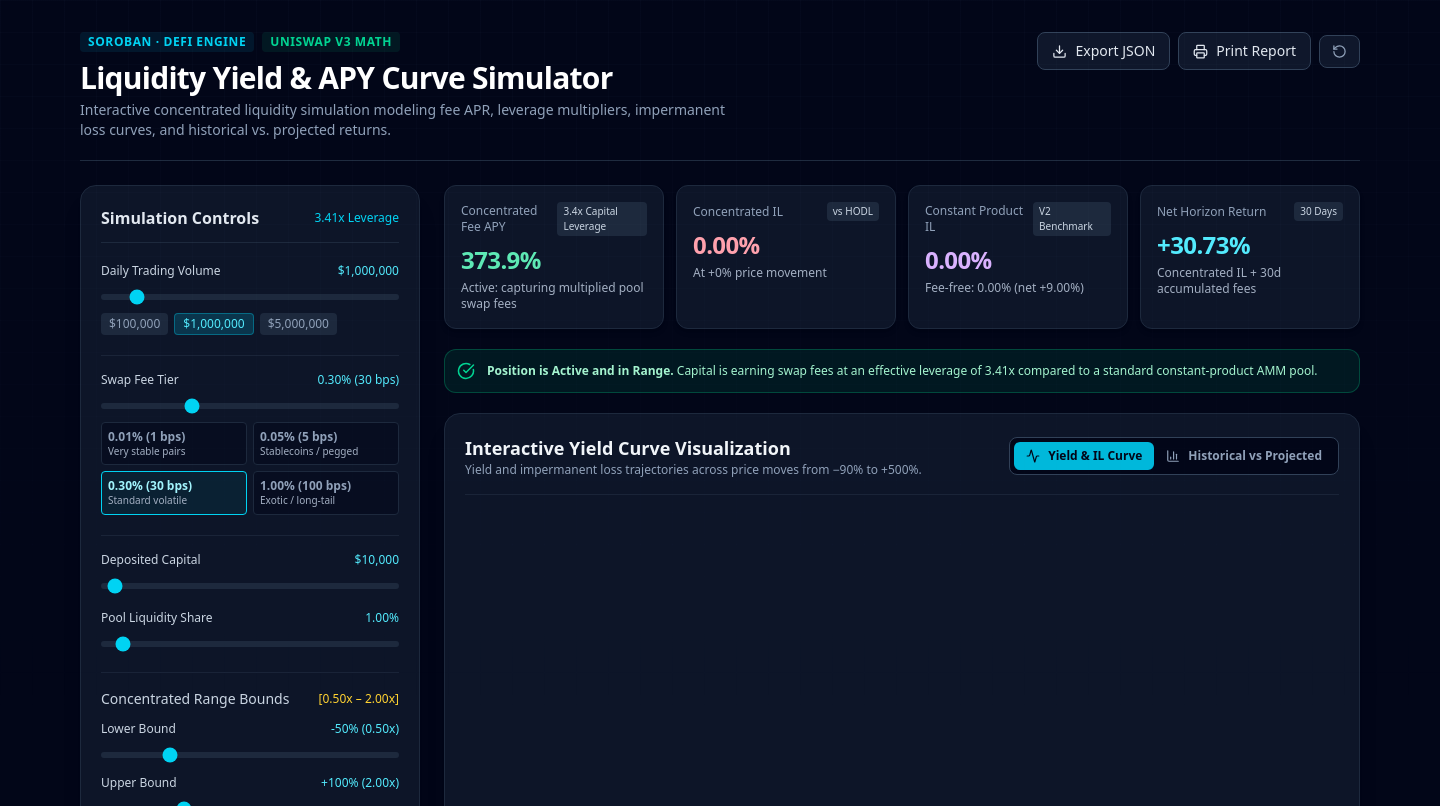
Test: YieldCurveSimulator component › selecting fee tier updates swap fee assumptions
This screenshot has width=1440, height=806.
Click the button "0.05% (5 bps) Stablecoins / pegged" at (326, 444), box x1=253 y1=422 x2=399 y2=465
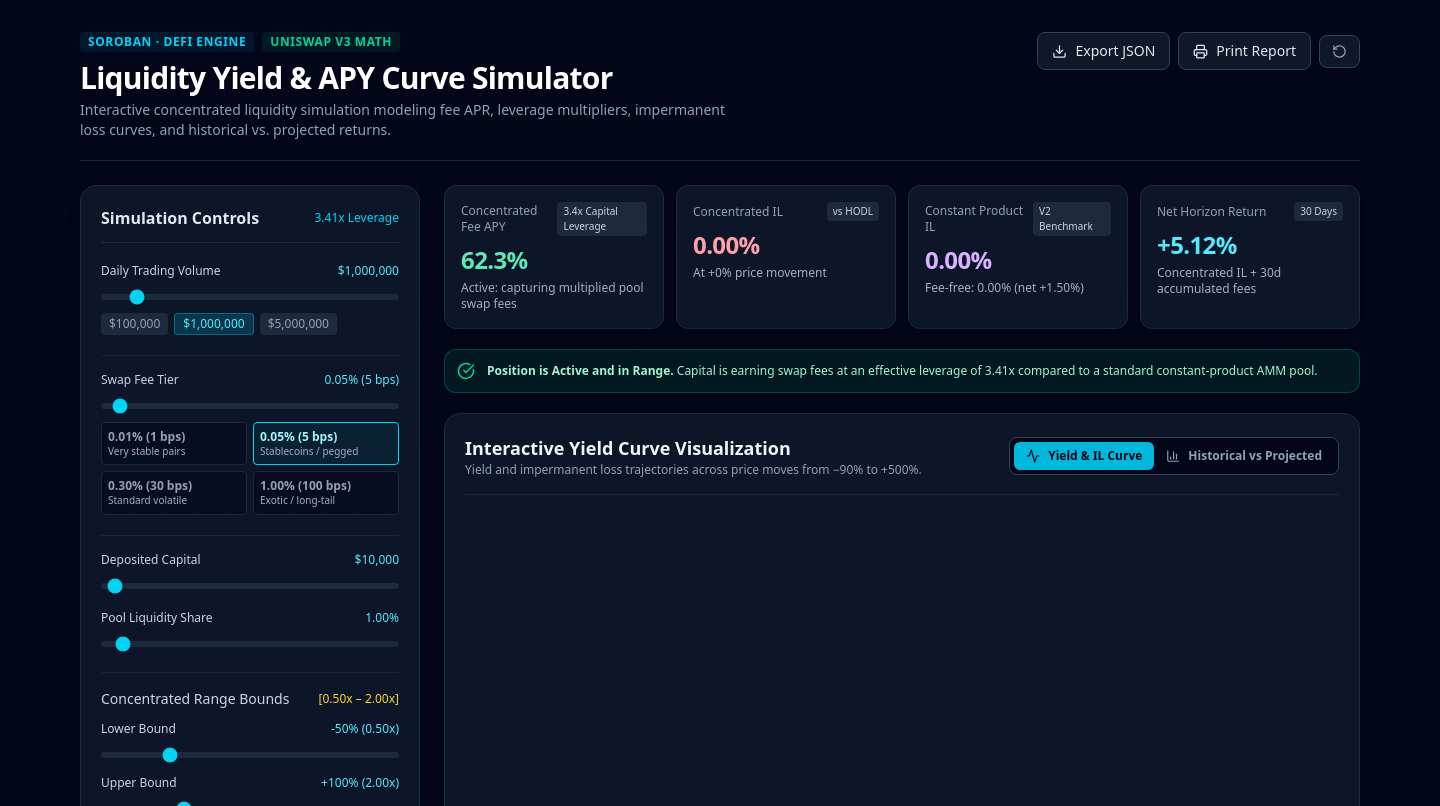
Expected: the text "0.05% (5 bps)" next to "Swap Fee Tier" is shown, x1=324 y1=371 x2=399 y2=388
